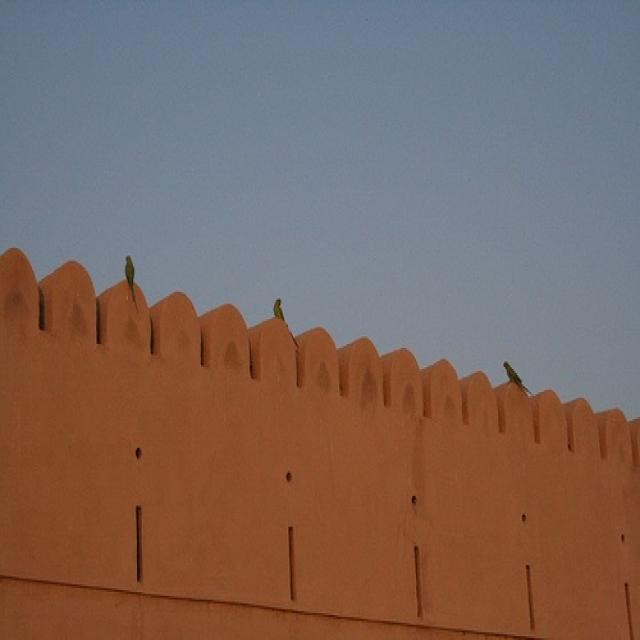bird: (270, 296, 300, 352), (500, 359, 534, 400), (122, 254, 140, 311)
